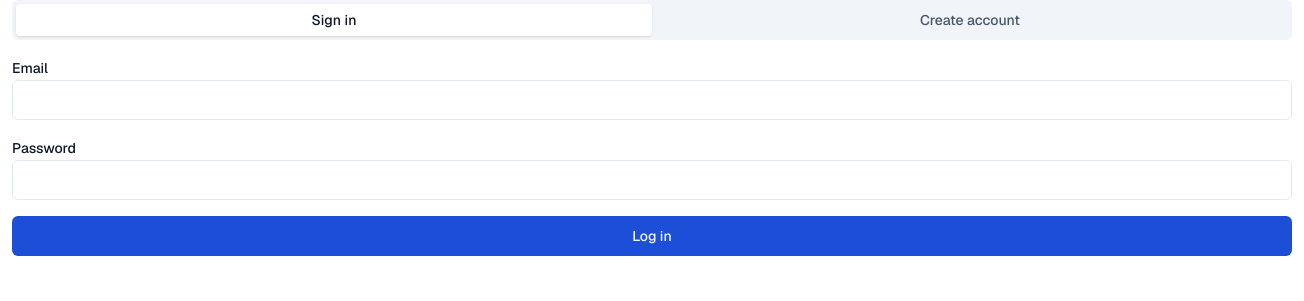
Test: AuthForm › shows validation error for invalid email on sign in
Expected: the password field with id "signin-password" is shown, [12,160,1292,200]
Type "not-an-email" into the field with id "signin-email". click: (652,100)
box: [12,80,1292,120]
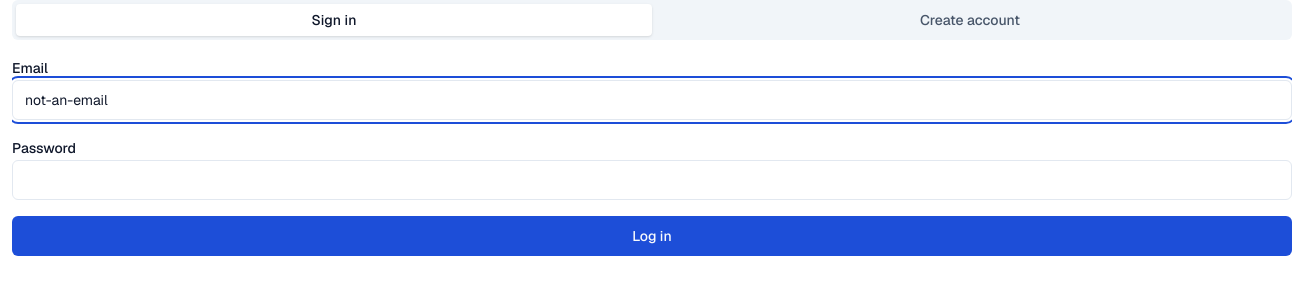
Type "secret1" into the password field with id "signin-password". click: (652,180)
box: [12,160,1292,200]
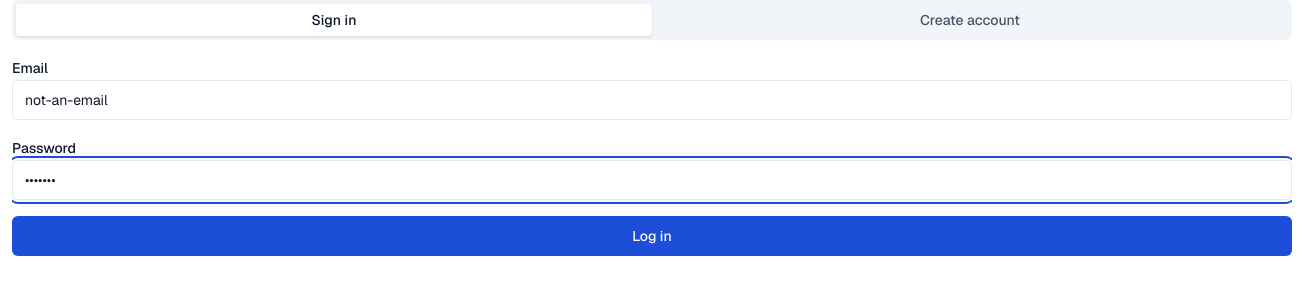
Click the button "Log in". click: (652,236)
box: [12,216,1292,256]
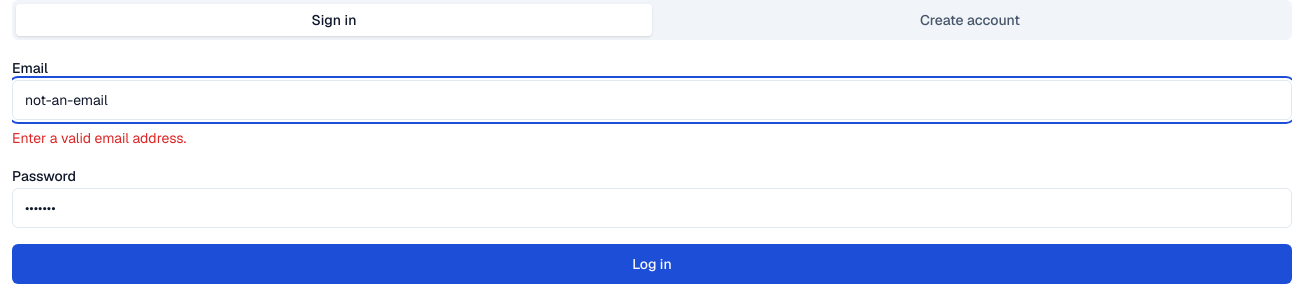
Expected: the text "Enter a valid email address." is shown, [12,129,186,147]
